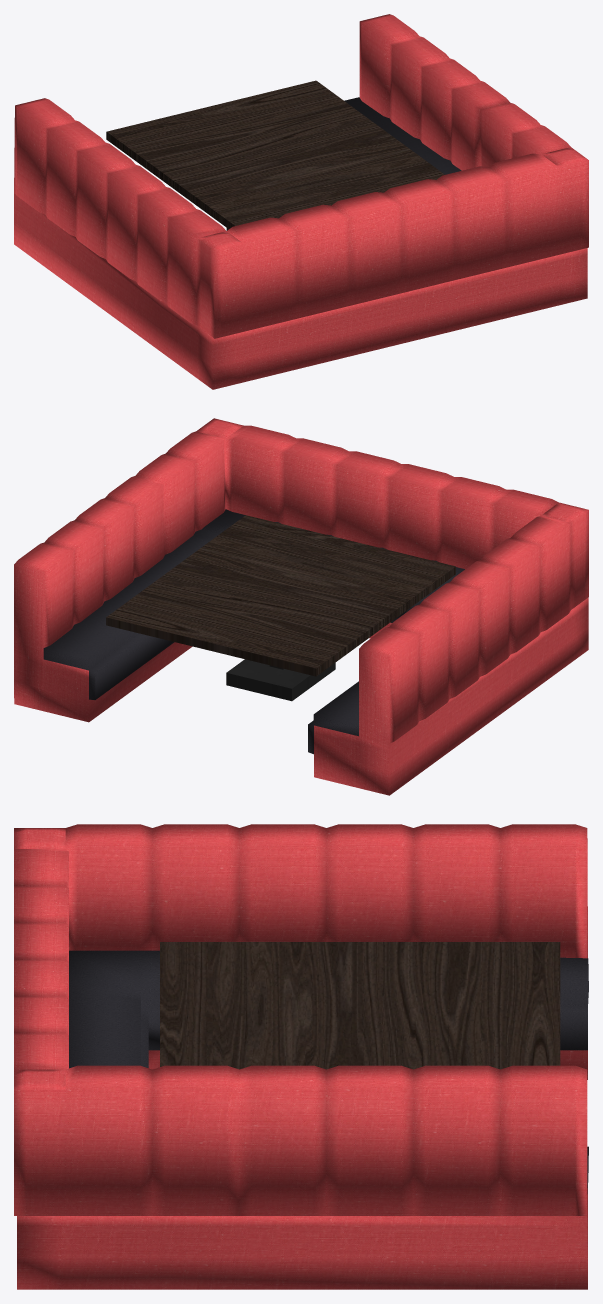
Rendered from restaurant_seating_booth__mozhubsprop (1).glb.
3 renders of one model, top to bottom at view 1: azimuth 30°, elevation 25°; view 2: azimuth 150°, elevation 25°; view 3: azimuth 270°, elevation 25°, orthographic. The views are drawn at different scales.
Parts seen in each view (by area): view 1: Object_3, Object_5, Object_2; view 2: Object_3, Object_5, Object_2, Object_4; view 3: Object_3, Object_5, Object_2.
Boxes of the visible parts, x1,y1,x2,y2 form: Object_3: [14, 14, 588, 389]; Object_5: [106, 80, 444, 228]; Object_2: [344, 97, 461, 174]; Object_3: [14, 418, 588, 795]; Object_5: [106, 515, 455, 676]; Object_2: [43, 509, 464, 754]; Object_4: [226, 659, 335, 701]; Object_3: [14, 824, 587, 1289]; Object_5: [160, 942, 560, 1069]; Object_2: [69, 950, 588, 1193].
Size of the model in its own units: 2.43 by 0.8693 by 2.24.
4 materials, 4 textured.
